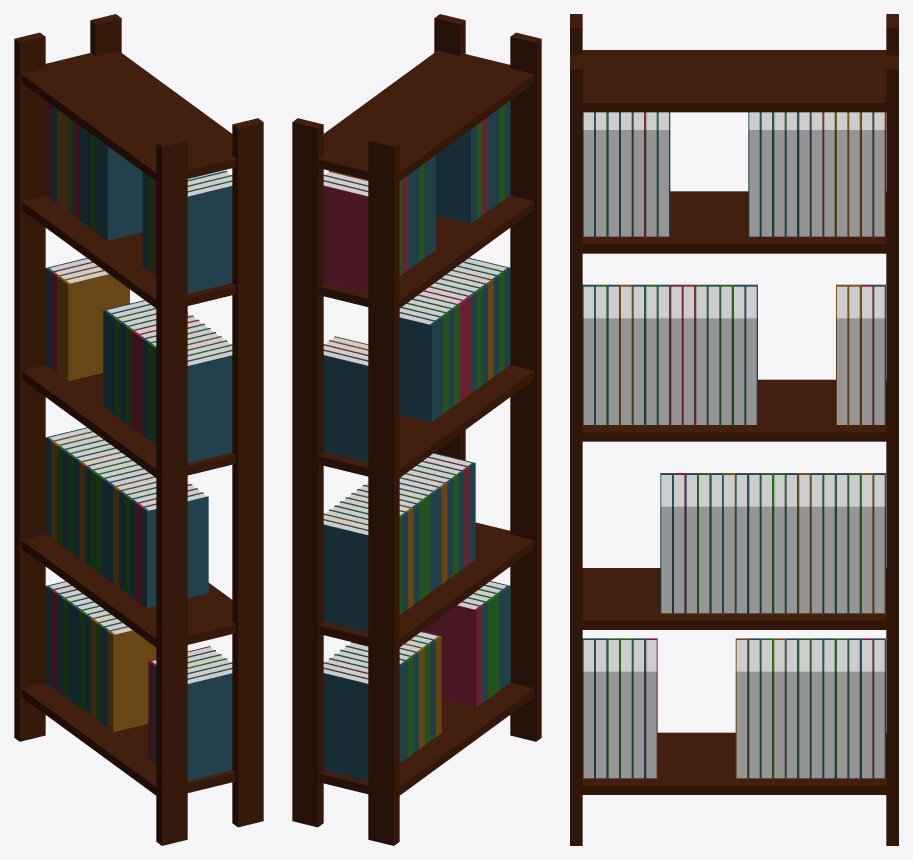
File: BookshelfWBooks 1.fbx
The picture shows the model from 3 angles, left to right: view 1: azimuth 30°, elevation 25°; view 2: azimuth 150°, elevation 25°; view 3: azimuth 270°, elevation 25°; orthographic projection. The views are drawn at different scales.
Parts seen in each view (by area): view 1: Cube.015, Cube.002, Cube.005, Cube.011, Cube.008, Cube.009, Cube.010, Cube.007, Cube.019, Cube.089, Cube.116, Cube.056 (+58 smaller); view 2: Cube.005, Cube.012, Cube.015, Cube.011, Cube.008, Cube.010, Cube.007, Cube.009, Cube.088, Cube.053, Cube.158, Cube.084 (+54 smaller); view 3: Cube.011, Cube.012, Cube.002, Cube.010, Cube.007, Cube.009, Cube.008, Cube.042, Cube.077, Cube.108, Cube.001, Cube.032 (+67 smaller).
Part boxes in pixels (x1,y1,x2,y2): Cube.015: (156,137,187,845); Cube.002: (232,118,263,827); Cube.005: (14,32,45,741); Cube.011: (21,50,235,180); Cube.008: (21,534,235,646); Cube.009: (21,365,235,477); Cube.010: (21,195,235,308); Cube.007: (21,682,235,795); Cube.019: (187,668,232,780); Cube.089: (187,350,232,462); Cube.116: (187,181,232,293); Cube.056: (68,274,129,380); Cube.005: (368,137,399,845); Cube.012: (292,118,323,827); Cube.015: (510,32,541,741); Cube.011: (319,50,534,180); Cube.008: (319,522,534,646); Cube.010: (319,195,534,308); Cube.007: (319,682,534,795); Cube.009: (319,365,534,477); Cube.088: (323,519,368,632); Cube.053: (323,668,368,780); Cube.158: (323,180,368,293); Cube.084: (323,350,368,462); Cube.011: (582,50,886,112); Cube.012: (886,55,898,845); Cube.002: (570,55,582,845); Cube.010: (582,191,886,253); Cube.007: (582,732,886,794); Cube.009: (582,379,886,441); Cube.008: (582,568,886,629); Cube.042: (811,640,822,778); Cube.077: (811,475,822,613); Cube.108: (708,286,719,424); Cube.001: (661,475,671,613); Cube.032: (749,640,759,778).
Size of the model in its own units: 25.13 by 165 by 63.29.
